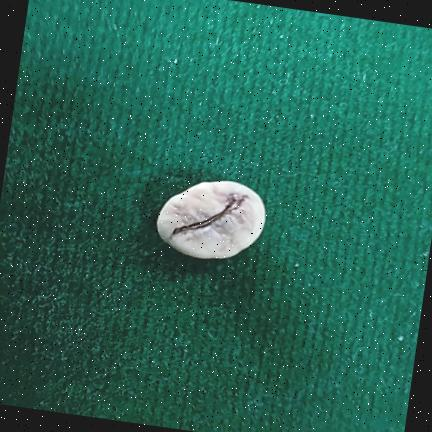immature: (156, 180, 264, 258)
